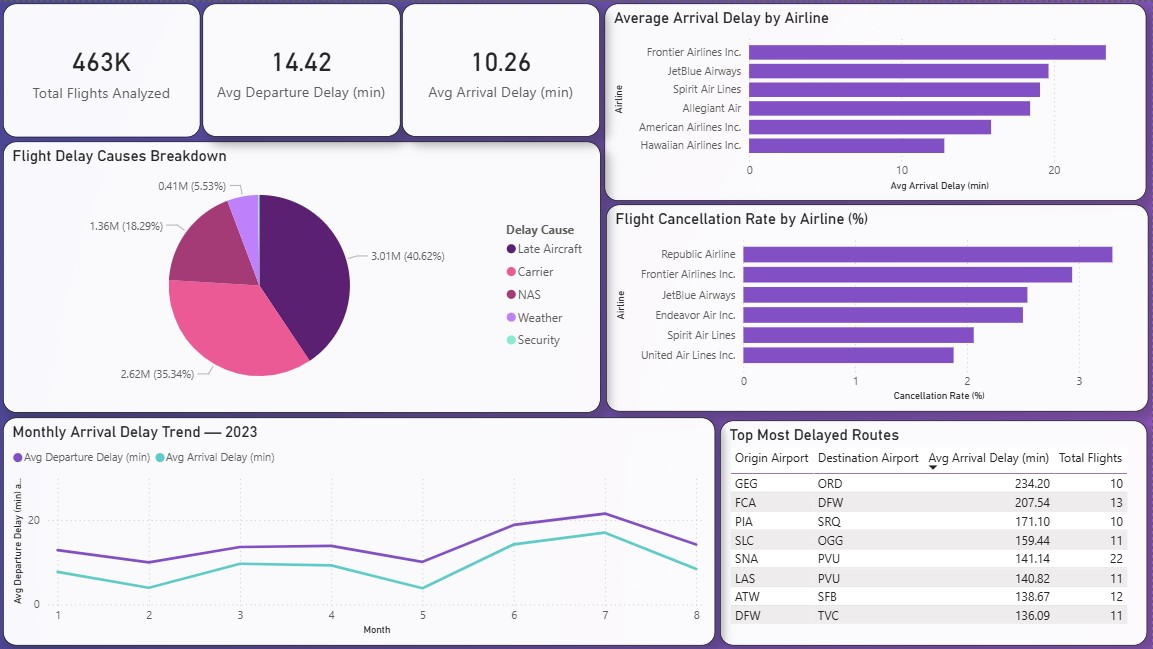

This screenshot's page, from the dashboard's own definition file:
{"tool":"powerbi","page":{"name":"Page 1","canvas":[1280,720],"ordinal":0},"visuals":[{"type":"clusteredBarChart","title":"Average Arrival Delay by Airline","fields":{"Category":["avg_delay_by_airline.airline"],"Y":["Avg(avg_delay_by_airline.avg_arr_delay)"]},"box":[672.3,2.3,602.3,219.2],"z":0},{"type":"clusteredBarChart","title":"Flight Cancellation Rate by Airline (%)","fields":{"Category":["cancellation_by_airline.airline"],"Y":["Avg(cancellation_by_airline.cancellation_rate_pct)"]},"box":[672.9,225.7,602.9,230],"z":1000},{"type":"pieChart","title":"Flight Delay Causes Breakdown","fields":{"Category":["delay_cause_breakdown.delay_cause"],"Y":["Avg(delay_cause_breakdown.total_delay_minutes)"]},"box":[2.9,154.3,664.3,301.4],"z":2000},{"type":"tableEx","title":"Top Most Delayed Routes","fields":{"Values":["most_delayed_routes.origin","most_delayed_routes.dest","most_delayed_routes.avg_arr_delay","most_delayed_routes.total_flights"]},"box":[800,464.6,474.6,250],"z":3000},{"type":"lineChart","title":"Monthly Arrival Delay Trend — 2023","fields":{"Category":["monthly_delay_trend.month"],"Y":["Avg(monthly_delay_trend.avg_dep_delay)","Avg(monthly_delay_trend.avg_arr_delay)"]},"box":[3.1,461.5,791.5,253.1],"z":4000},{"type":"card","fields":{"Values":["Sum(avg_delay_by_airline.total_flights)"]},"box":[3.1,1.5,219.2,148.5],"z":5000},{"type":"card","fields":{"Values":["Avg(avg_delay_by_airline.avg_dep_delay)"]},"box":[224.6,2.3,220,147.7],"z":6000},{"type":"card","fields":{"Values":["Avg(avg_delay_by_airline.avg_arr_delay)"]},"box":[446.9,2.3,220,147.7],"z":7000}]}

Visuals, with their boxes in screenshot pixels (x1, y1, x2, y2), scaled from the page's 1280x720 canvas onto the 1153x649 screenshot:
"Average Arrival Delay by Airline" clusteredBarChart: [606, 2, 1148, 200]
"Flight Cancellation Rate by Airline (%)" clusteredBarChart: [606, 203, 1149, 411]
"Flight Delay Causes Breakdown" pieChart: [3, 139, 601, 411]
"Top Most Delayed Routes" tableEx: [721, 419, 1148, 644]
"Monthly Arrival Delay Trend — 2023" lineChart: [3, 416, 716, 644]
card - Sum(avg_delay_by_airline.total_flights): [3, 1, 200, 135]
card - Avg(avg_delay_by_airline.avg_dep_delay): [202, 2, 400, 135]
card - Avg(avg_delay_by_airline.avg_arr_delay): [403, 2, 601, 135]
